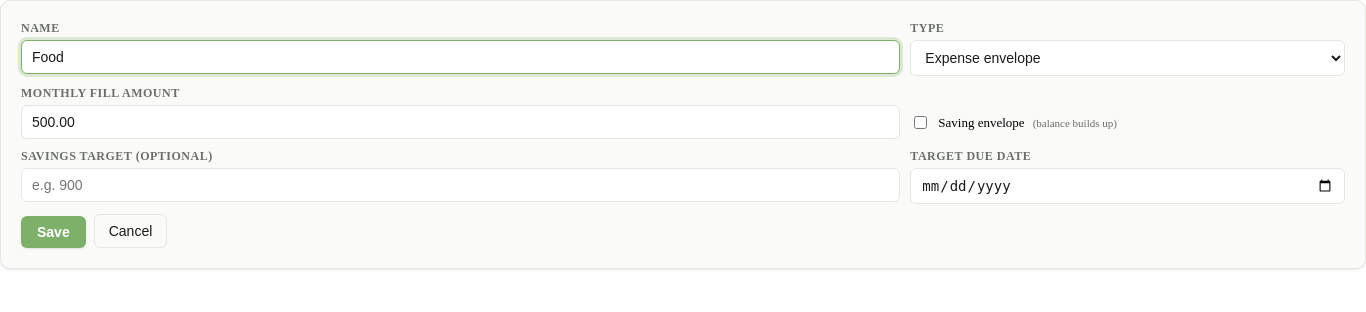
it: a half-entered target cannot be silently saved
Type "900" into the number field named "Savings target amount" at (461, 185), box [21,168,900,202]
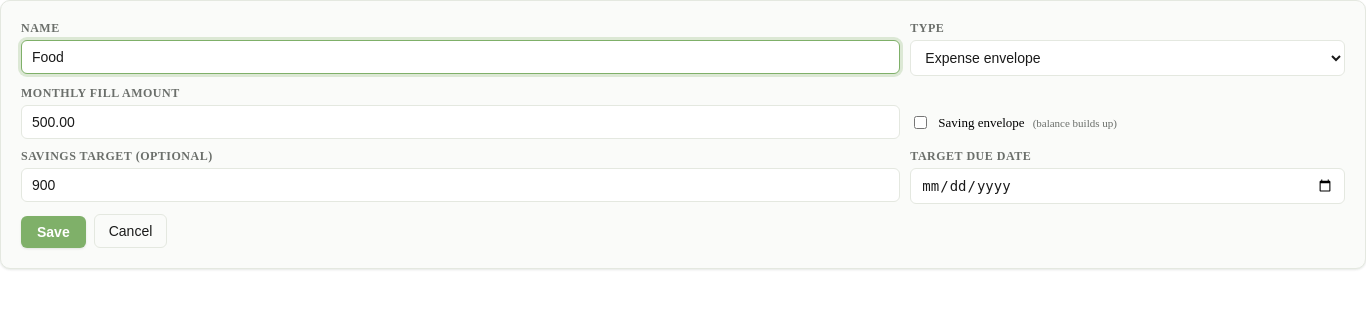
Click the button "Save" at (53, 232), box [21,216,86,248]
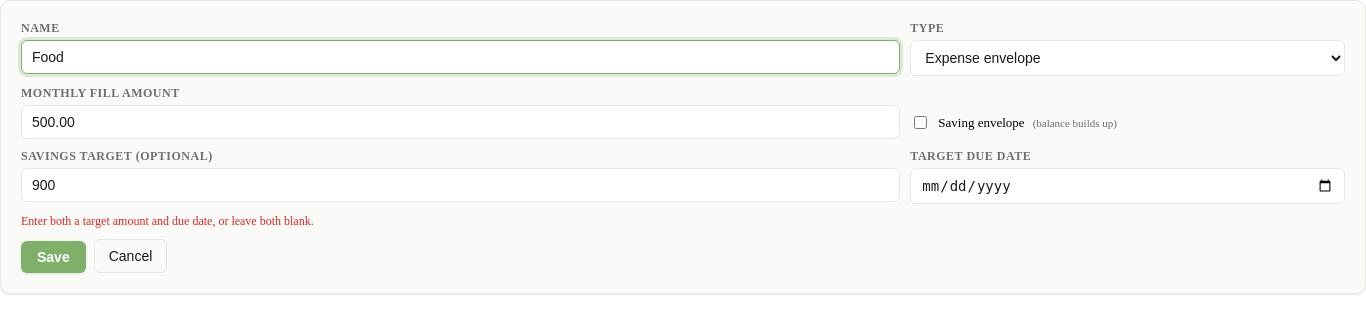
Expected: the message shows "both a target amount and due date", [21,214,314,228]
